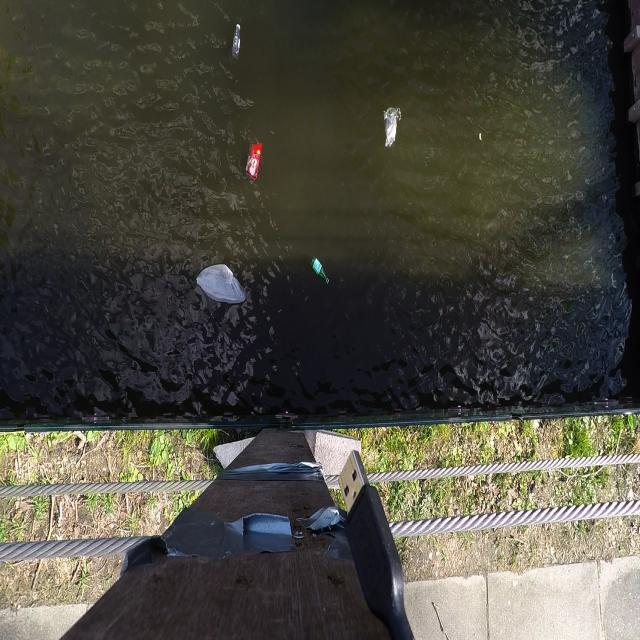Bouteille plastique: (307, 254, 333, 291), (227, 19, 245, 62)
Sac plastique: (191, 258, 250, 312), (378, 96, 404, 151)
